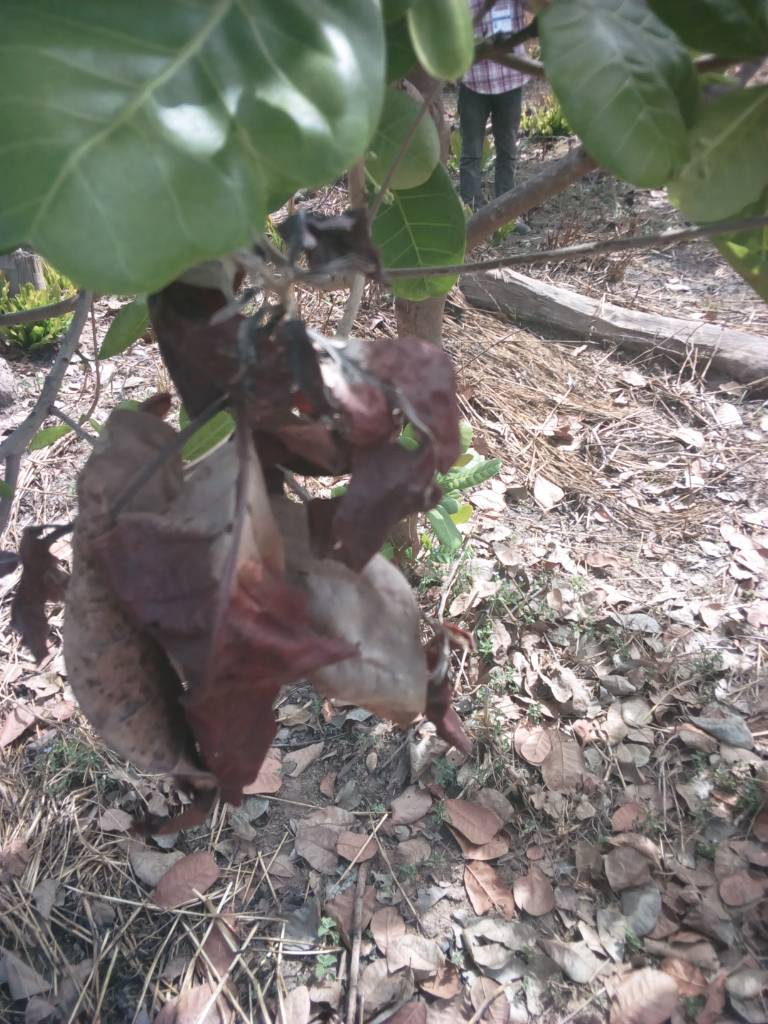Die-black: (122, 400, 363, 842), (47, 403, 199, 775), (290, 490, 477, 737), (340, 324, 491, 561), (150, 280, 357, 450)
